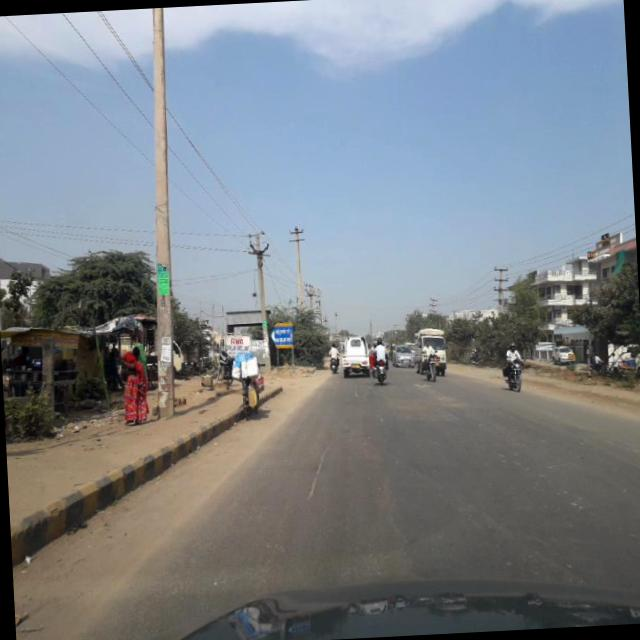pothole: (302, 436, 332, 504)
